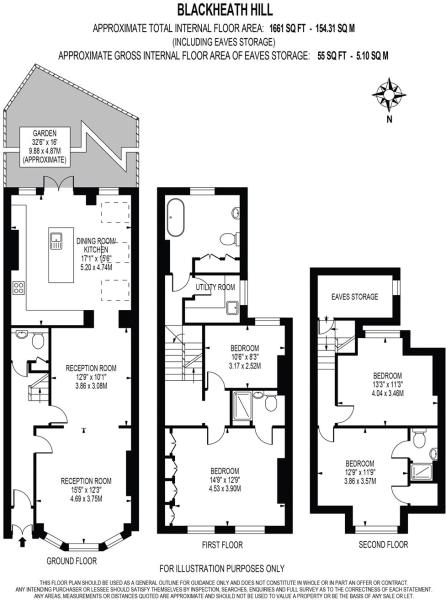GardenMeasurements: (21, 128, 69, 166)
GrossArea: (90, 20, 360, 35)
